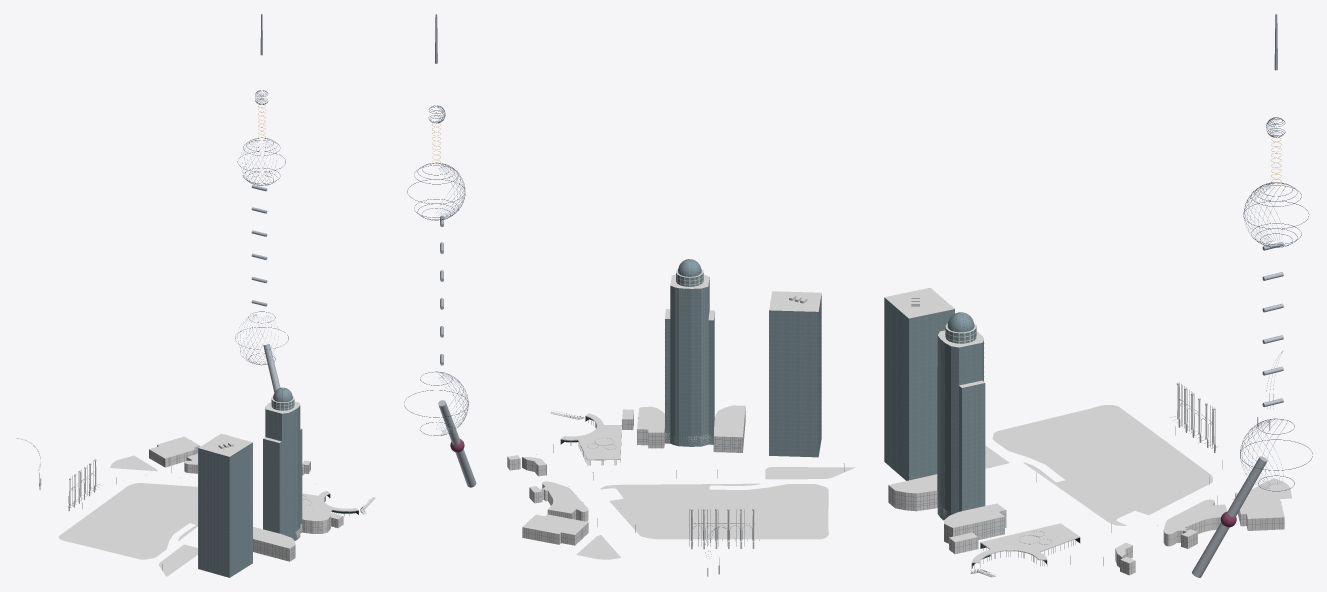
3 renders of one model, left to right at view 1: azimuth 30°, elevation 25°; view 2: azimuth 150°, elevation 25°; view 3: azimuth 270°, elevation 25°, orthographic. The views are drawn at different scales.
Visible parts, largest first — view 1: -1_-1_v02 中性蓝灰幕墙, -1_-1_v02 草地, -1_-1_v02 铝合金幕墙框, -1_-1_v02 深灰屋面, -1_-1_v02 米白石材, -1_-1_珍珠白 · 混凝土; view 2: -1_-1_v02 中性蓝灰幕墙, -1_-1_v02 草地, -1_-1_v02 铝合金幕墙框, -1_-1_v02 深灰屋面, -1_-1_v02 米白石材, -1_-1_珍珠白 · 混凝土, -1_-1_深灰金属, -1_-1_v03 会议中心浅米石; view 3: -1_-1_v02 中性蓝灰幕墙, -1_-1_v02 草地, -1_-1_v02 铝合金幕墙框, -1_-1_v02 深灰屋面, -1_-1_v02 米白石材, -1_-1_珍珠白 · 混凝土, -1_-1_深灰金属, -1_-1_v03 会议中心浅米石.
Boxes of the visible parts, x1=… form: -1_-1_v02 中性蓝灰幕墙: x1=198, y1=387, x2=302, y2=577; -1_-1_v02 草地: x1=58, y1=455, x2=197, y2=576; -1_-1_v02 铝合金幕墙框: x1=16, y1=387, x2=343, y2=576; -1_-1_v02 深灰屋面: x1=149, y1=396, x2=358, y2=548; -1_-1_v02 米白石材: x1=149, y1=398, x2=342, y2=561; -1_-1_珍珠白 · 混凝土: x1=237, y1=14, x2=280, y2=392; -1_-1_v02 中性蓝灰幕墙: x1=665, y1=259, x2=821, y2=457; -1_-1_v02 草地: x1=576, y1=467, x2=855, y2=559; -1_-1_v02 铝合金幕墙框: x1=507, y1=259, x2=821, y2=574; -1_-1_v02 深灰屋面: x1=508, y1=269, x2=821, y2=534; -1_-1_v02 米白石材: x1=507, y1=274, x2=745, y2=545; -1_-1_珍珠白 · 混凝土: x1=434, y1=14, x2=476, y2=487; -1_-1_深灰金属: x1=404, y1=105, x2=468, y2=435; -1_-1_v03 会议中心浅米石: x1=690, y1=508, x2=754, y2=576; -1_-1_v02 中性蓝灰幕墙: x1=884, y1=297, x2=985, y2=520; -1_-1_v02 草地: x1=985, y1=405, x2=1292, y2=525; -1_-1_v02 铝合金幕墙框: x1=884, y1=301, x2=1283, y2=574; -1_-1_v02 深灰屋面: x1=884, y1=287, x2=1284, y2=563; -1_-1_v02 米白石材: x1=888, y1=326, x2=1284, y2=575; -1_-1_珍珠白 · 混凝土: x1=1192, y1=14, x2=1287, y2=577; -1_-1_深灰金属: x1=1240, y1=117, x2=1312, y2=491; -1_-1_v03 会议中心浅米石: x1=1176, y1=382, x2=1270, y2=452.
Bounding box in the file's own units: 310 × 430 × 295.
